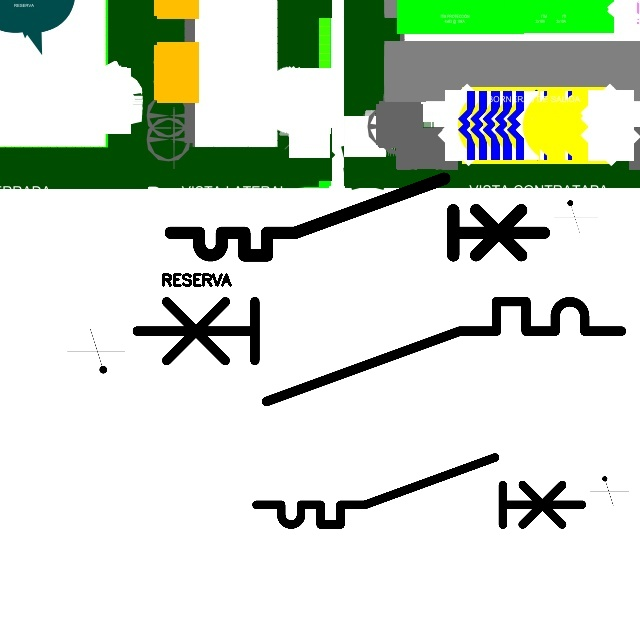interruptor_termomagnetico: (124, 289, 633, 413), (161, 169, 553, 265), (248, 449, 590, 533)
